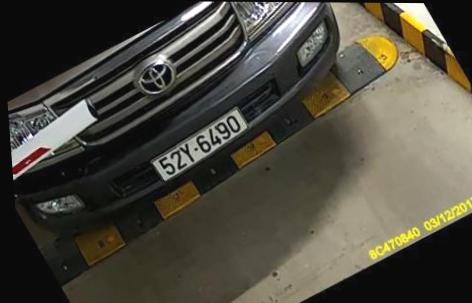License_Plate: (136, 107, 275, 188)
